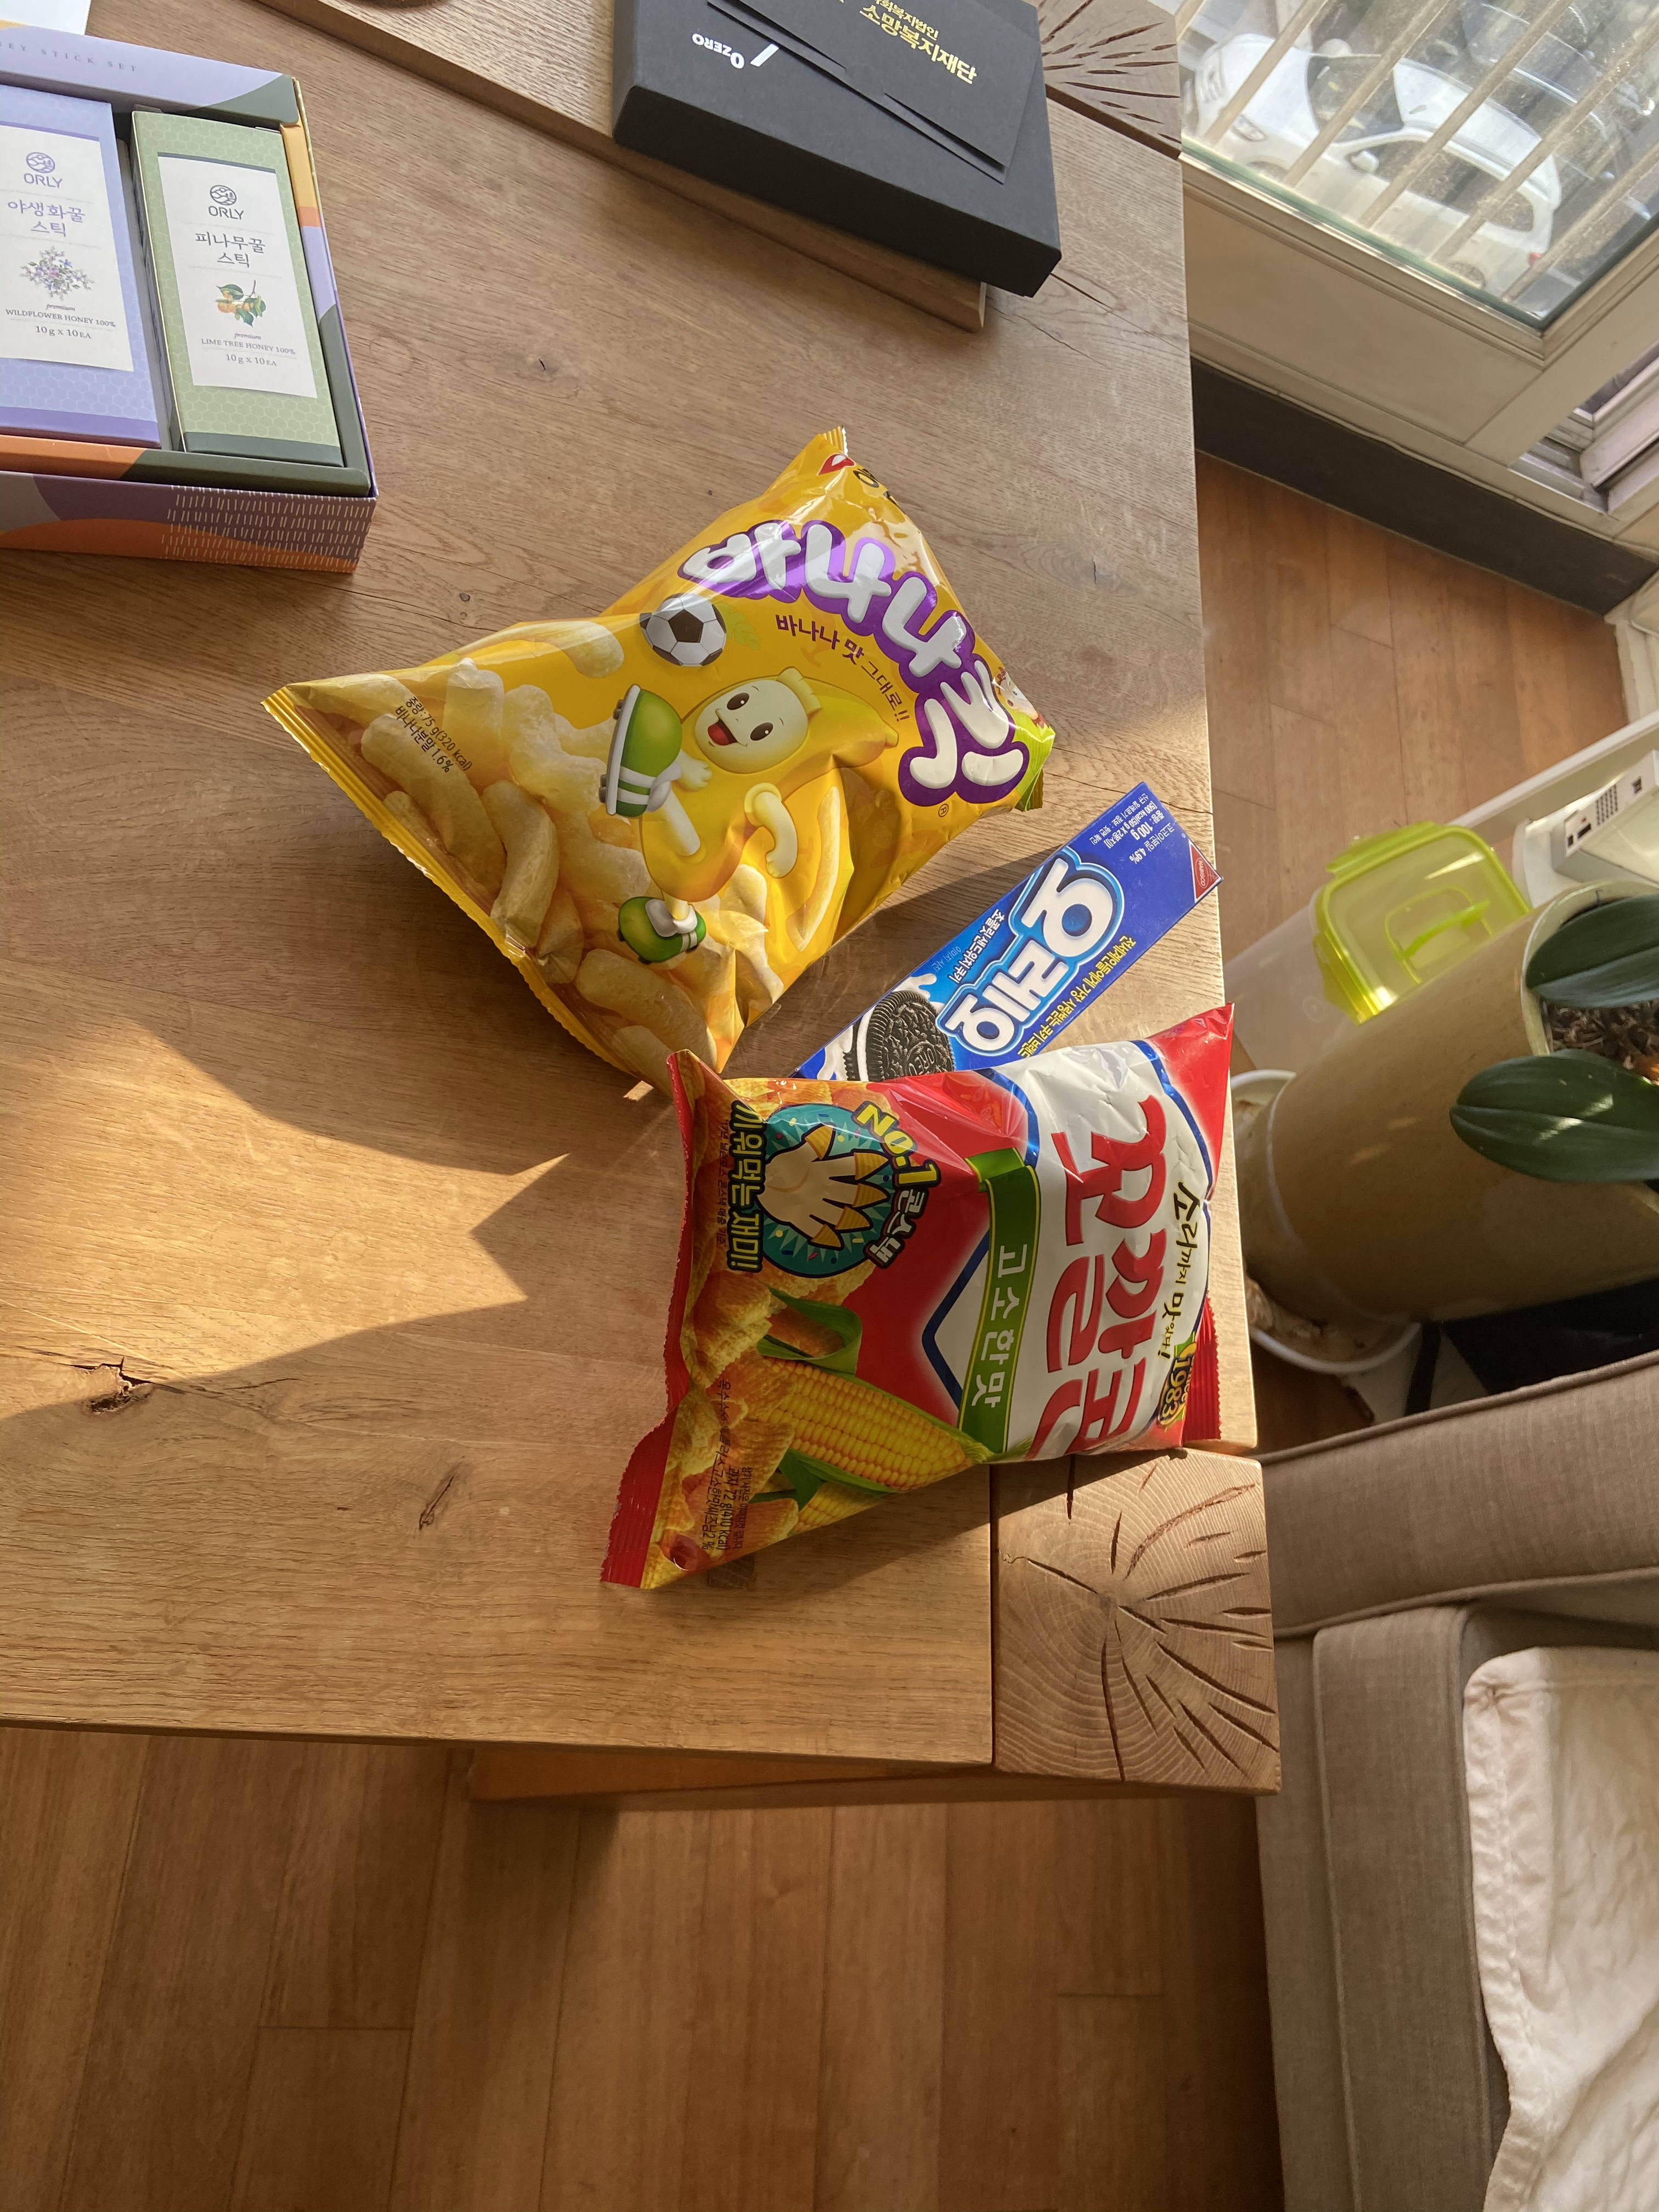banana: (240, 411, 1063, 1104)
ggoggalcon: (601, 998, 1279, 1623)
oreo: (706, 773, 1230, 1111)
